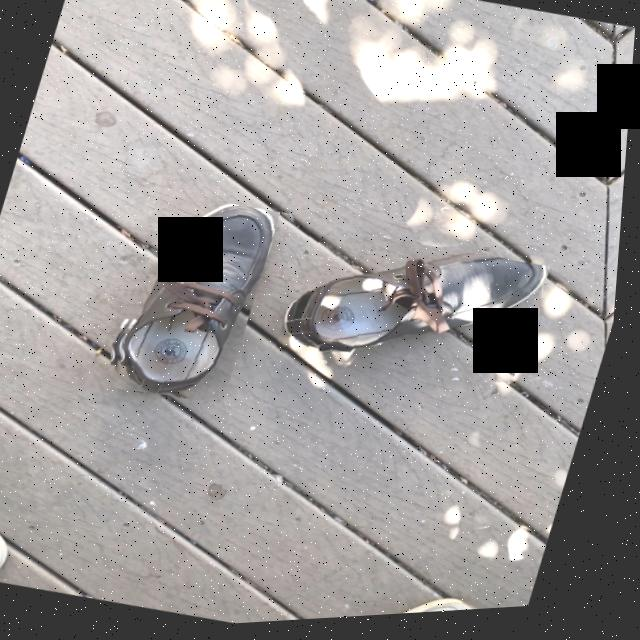shoe: (123, 208, 278, 398), (289, 261, 550, 366)
